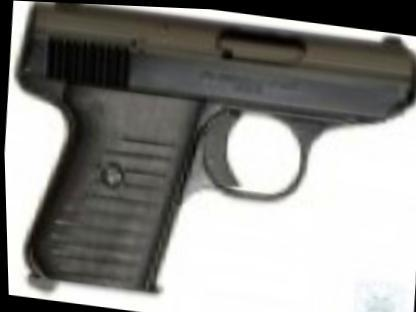pistol: (4, 0, 415, 311)
